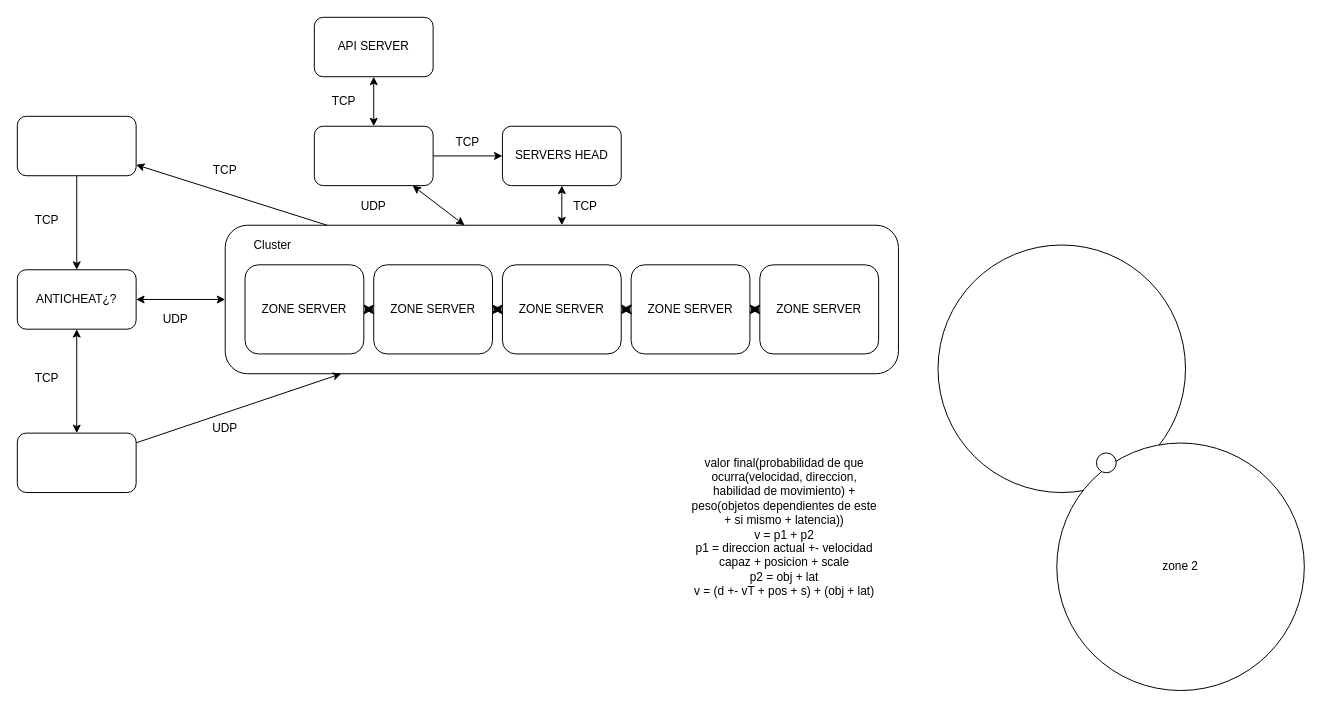
Image size: 1322x708. Some labels were removed from this diagram. Here are the shapes that lost their labels. From the top down, the centre of each, then its label:
At (76,145): "CACHE".
At (373,155): "CLIENT".
At (1061,368): "zone 1".
At (76,462): "PERSISTANCE SERVER".
